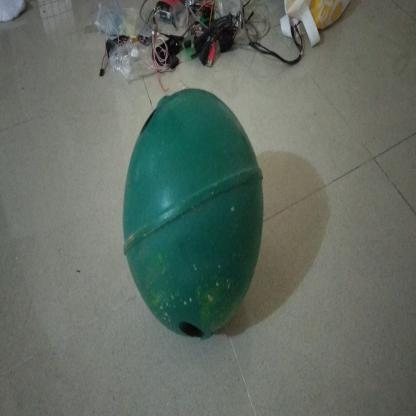green_buoy: (120, 90, 264, 350)
